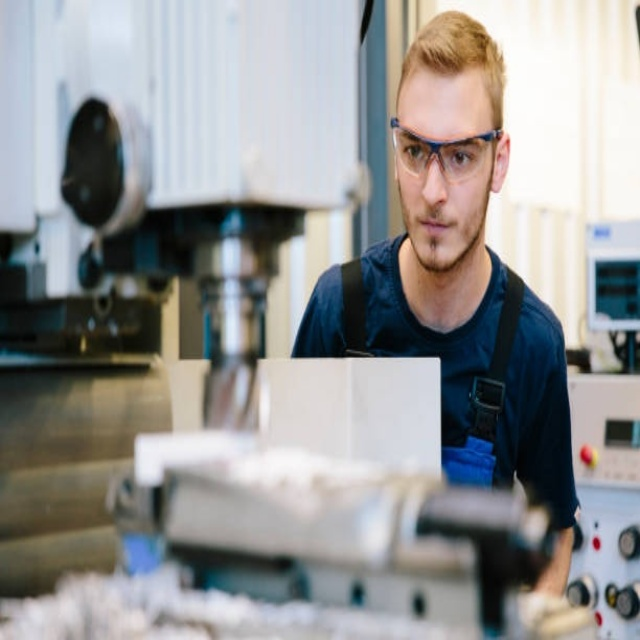Gafas: (391, 120, 502, 184)
Sin_mascara: (413, 207, 458, 260)
